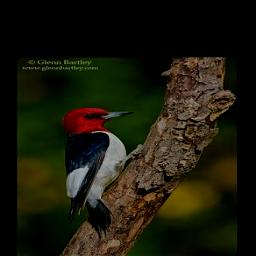Woodpecker: (57, 108, 149, 241)
